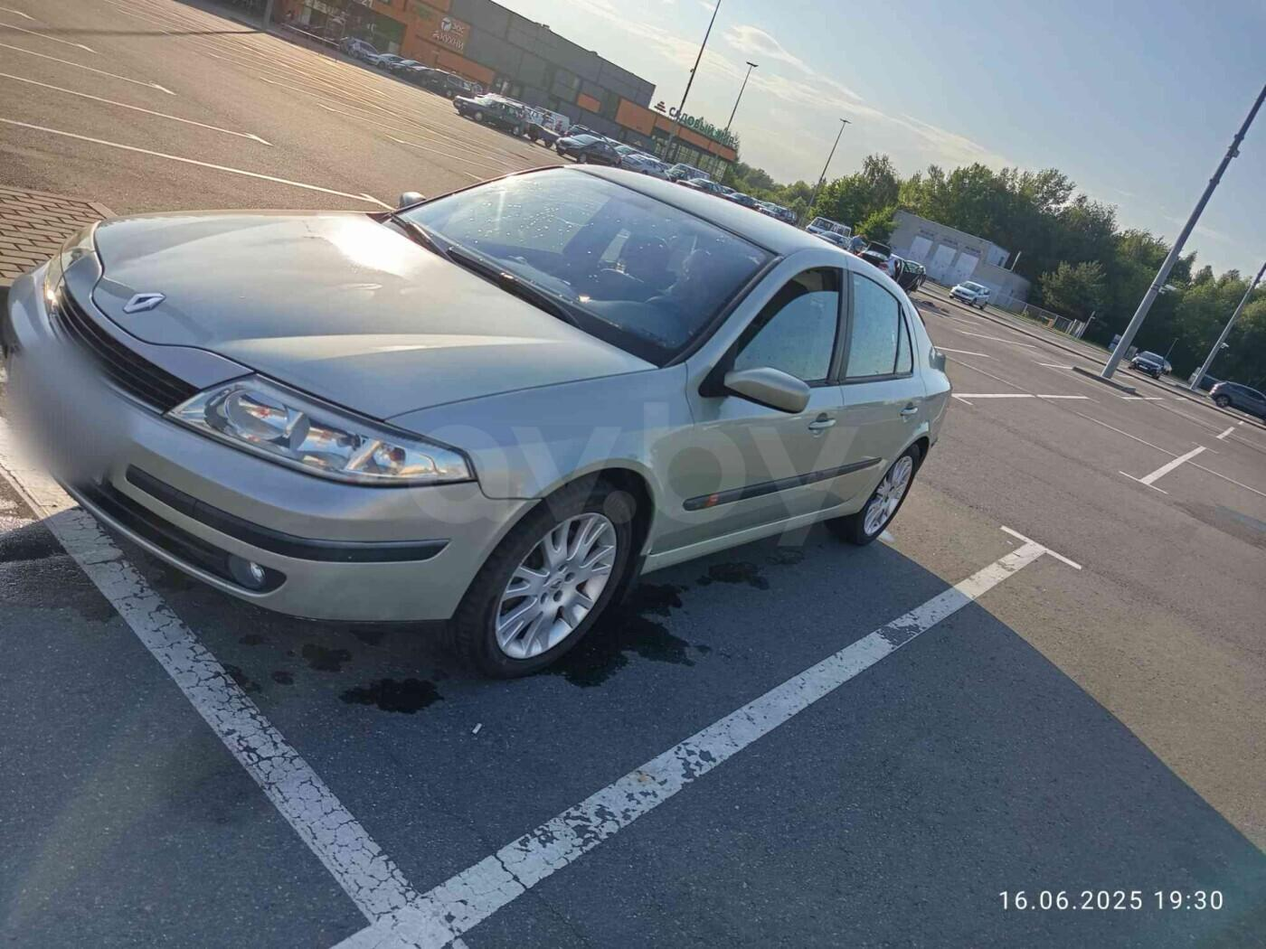Laguna_2001-2005: (0, 165, 951, 679)
